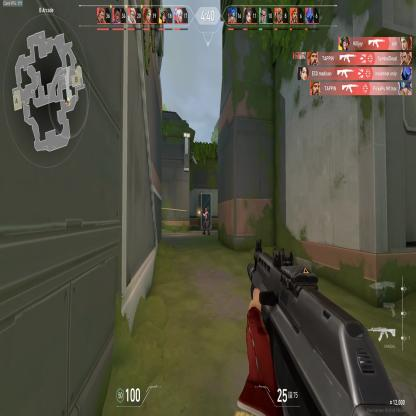enemy: (200, 206, 210, 236)
